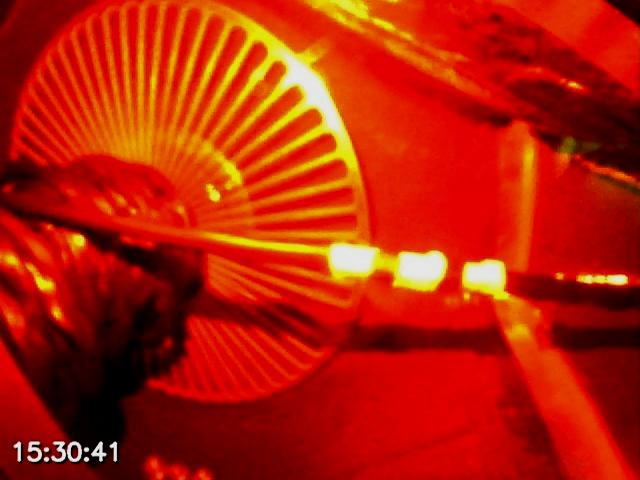white-dots: (324, 243, 510, 300)
